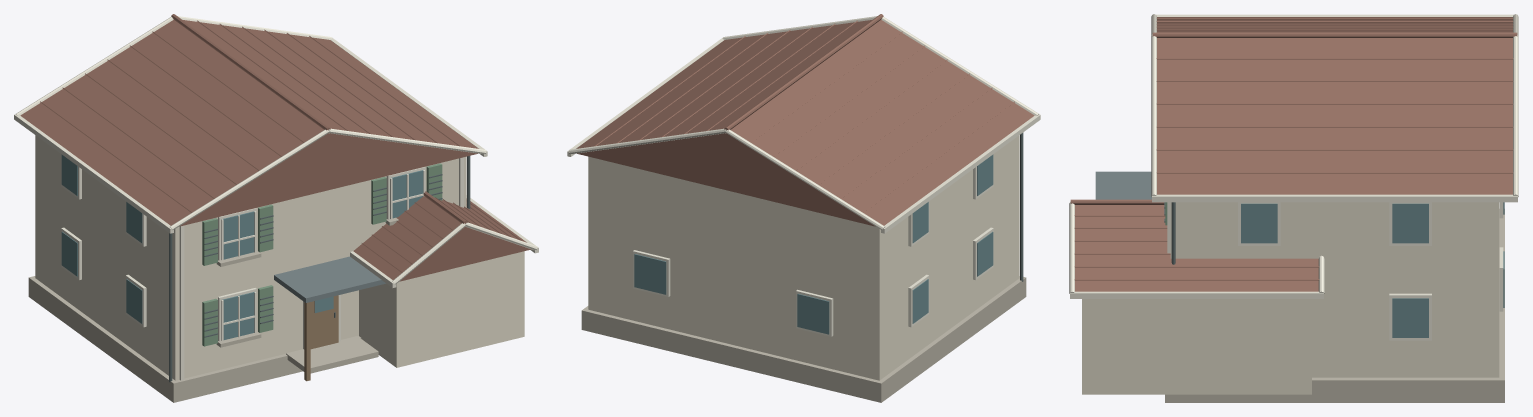
3 renders of one model, left to right at view 1: azimuth 30°, elevation 25°; view 2: azimuth 150°, elevation 25°; view 3: azimuth 270°, elevation 25°, orthographic. The views are drawn at different scales.
Size of the model in its own units: 11.69 by 8.12 by 11.62.
